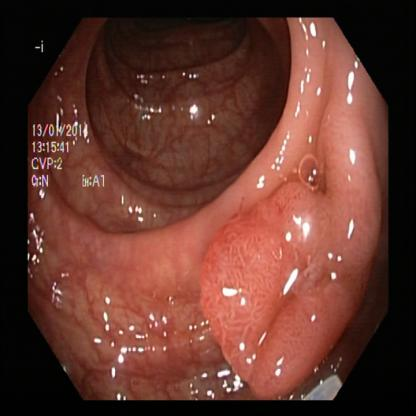Labels: (24, 33, 114, 233)
Polyps: (216, 165, 360, 353)
